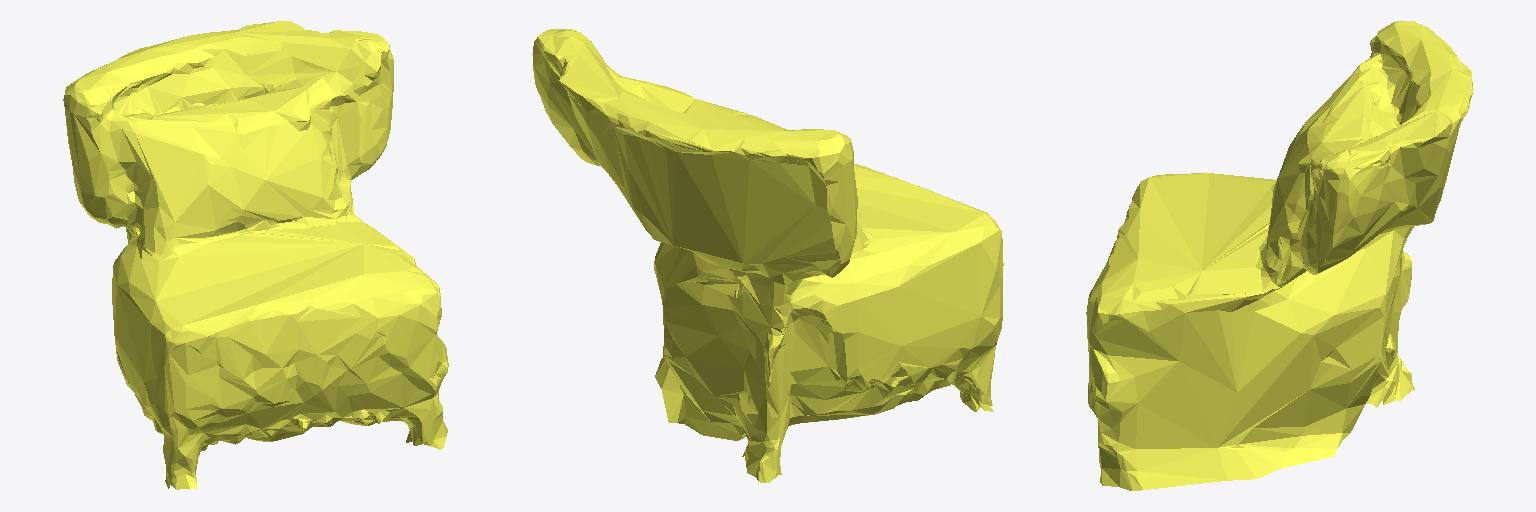
The robot description file, URDF, robot "env.urdf":
<?xml version="0.0" ?>
<robot name="env.urdf">
  <link name="baseLink">
    <contact>
      <lateral_friction value="1.0"/>
      <rolling_friction value="0.0"/>
      <contact_cfm value="0.0"/>
      <contact_erp value="1.0"/>
    </contact>
    <inertial>
      <origin rpy="0 0 0" xyz="0.0 0.02 0.0"/>
       <mass value="0"/>
       <inertia ixx="1" ixy="0" ixz="0" iyy="1" iyz="0" izz="1"/>
    </inertial>
    <visual>
      <origin rpy="0 0 0" xyz="0 0 0"/>
      <geometry>
        <mesh filename="chair2.obj" scale="1 1 1"/>
      </geometry>
       <material name="yellow">
        <color rgba="1 1 0.4 1"/>
      </material>
    </visual>
    <collision>
      <origin rpy="0 0 0" xyz="0 0 0"/>
      <geometry>
	 	<mesh filename="chair2.obj" scale="1 1 1"/>
      </geometry>
    </collision>
  </link>
</robot>

--- Facts derived from the render (not from the file) ---
Views: 3 orthographic renders of the robot side by side, from view 1: azimuth 30°, elevation 25°; view 2: azimuth 150°, elevation 25°; view 3: azimuth 270°, elevation 25°.
Model env.urdf with 1 links and 0 joints (none), rooted at baseLink, posed all joints at 0.
Links seen in each view (by area): view 1: baseLink; view 2: baseLink; view 3: baseLink.
Link boxes in pixels (left/top/right/bottom): baseLink: left=63, top=21, right=448, bottom=489; baseLink: left=532, top=29, right=1003, bottom=482; baseLink: left=1086, top=20, right=1473, bottom=490.
Size in the robot's own frame: 0.7977 by 0.7699 by 0.7762 metres.
1 mesh visuals loaded from 1 distinct referenced files (1 OBJ).